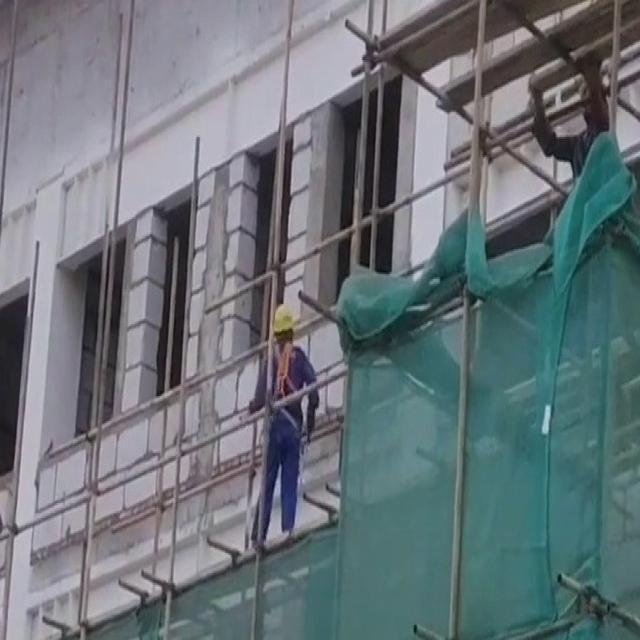Arnes_seguridad: (268, 336, 297, 404)
